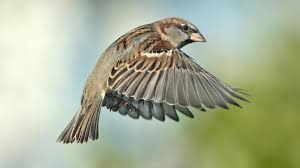hsparrow: (53, 14, 253, 150)
